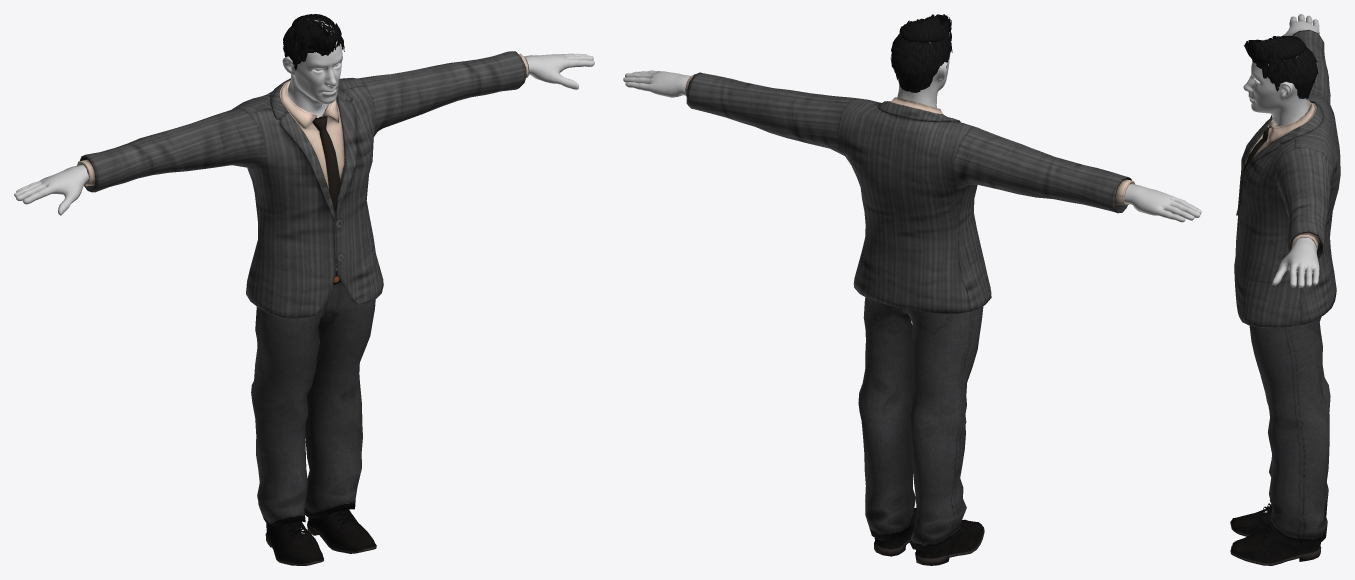
File: ninteenth_clothes_hair.obj
3 renders of one model, left to right at view 1: azimuth 30°, elevation 25°; view 2: azimuth 150°, elevation 25°; view 3: azimuth 270°, elevation 25°, orthographic. The views are drawn at different scales.
Parts seen in each view (by area): view 1: Tops, Bottoms, Body, Shoes, Hair; view 2: Tops, Bottoms, Body, Hair, Shoes; view 3: Tops, Bottoms, Body, Hair, Shoes.
Boxes of the visible parts, x1,y1,x2,y2 form: Tops: [77, 51, 529, 318]; Bottoms: [251, 271, 375, 526]; Body: [14, 19, 594, 533]; Shoes: [265, 509, 376, 565]; Hair: [283, 14, 344, 70]; Tops: [685, 72, 1135, 313]; Bottoms: [858, 297, 983, 551]; Body: [623, 35, 1201, 324]; Hair: [891, 14, 952, 92]; Shoes: [874, 508, 984, 565]; Tops: [1234, 29, 1340, 327]; Bottoms: [1249, 316, 1330, 544]; Body: [1243, 14, 1319, 512]; Hair: [1244, 35, 1318, 99]; Shoes: [1230, 503, 1321, 565].
Size of the model in its own units: 21.36 by 18.63 by 3.67.
